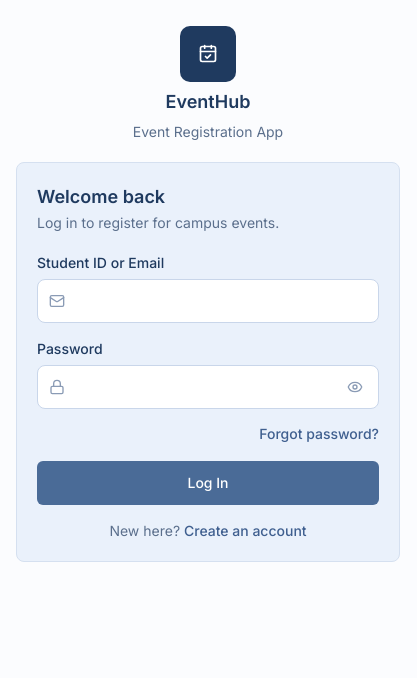
it: Login › shows the server message when the credentials are wrong
Type "jan.nino@school.edu" into the field labelled "Student ID or Email".
click(208, 301); type("jan.nino@school.edu")  # box [37,279,379,323]
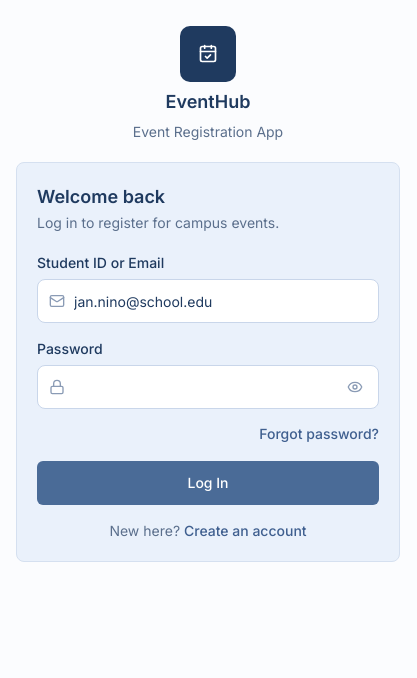
Type "wrong" into the password field labelled "Password".
click(208, 387); type("wrong")  # box [37,365,379,409]
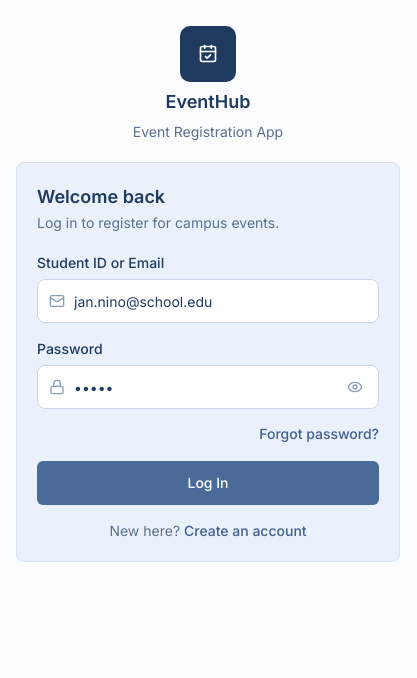
Click the button "Log In".
click(208, 483)  # box [37,461,379,505]
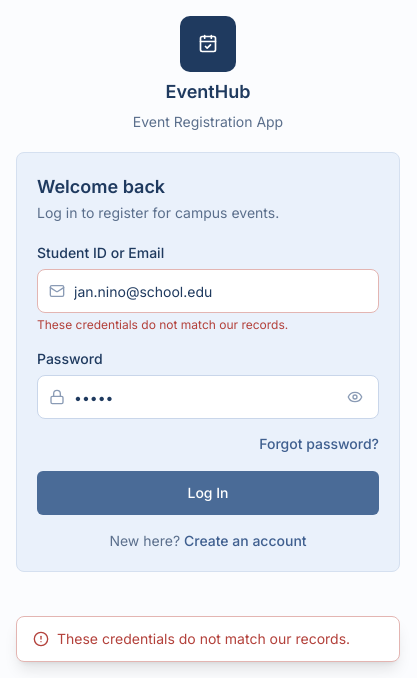
Now the text "These credentials do not match our records." below "Student ID or Email" is shown, box [37,317,288,332]
